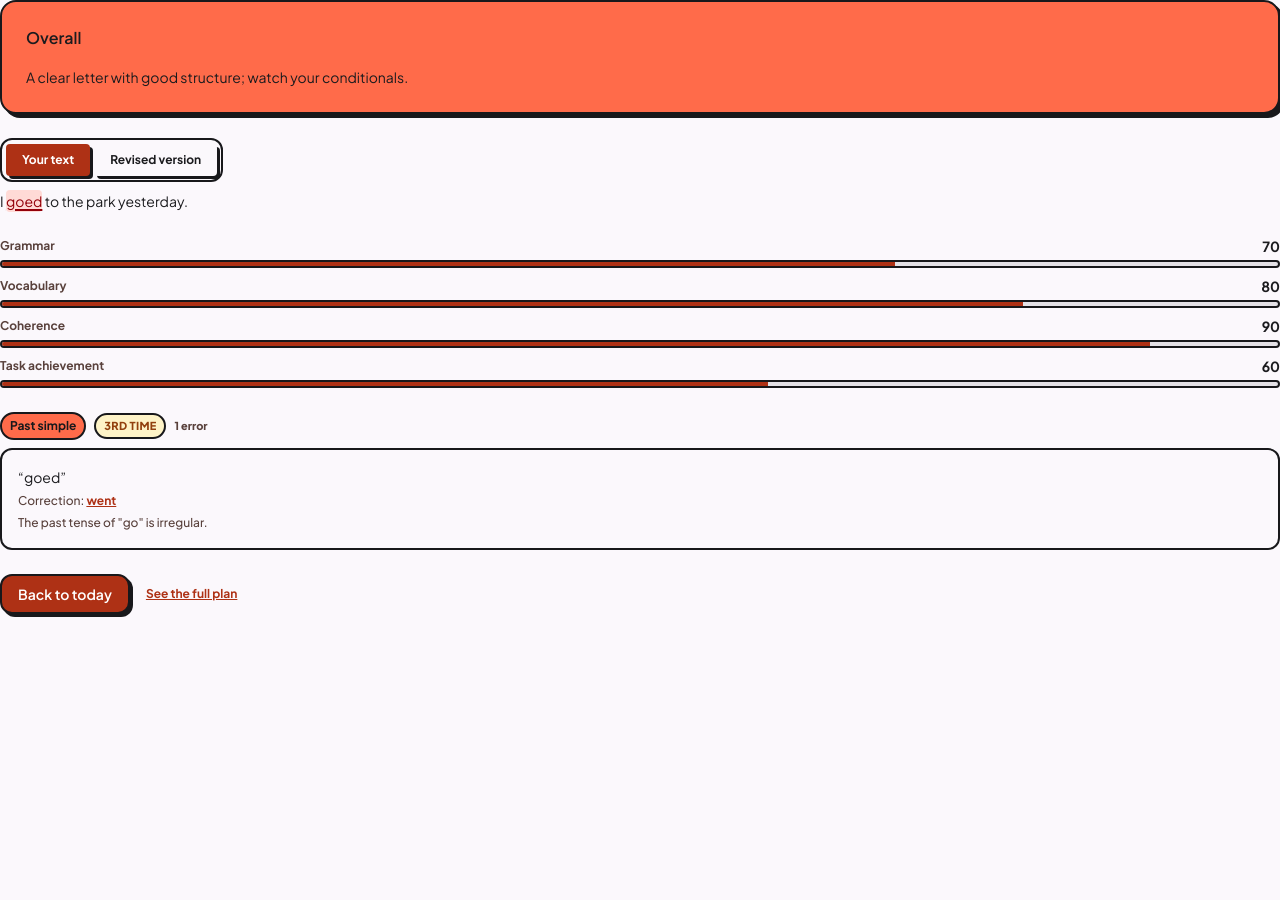
Test case: WritingResult › a_highlight_popover_closes_on_escape
Click the button with aria-label "goed — Past simple": (24, 201) [6, 190, 42, 212]
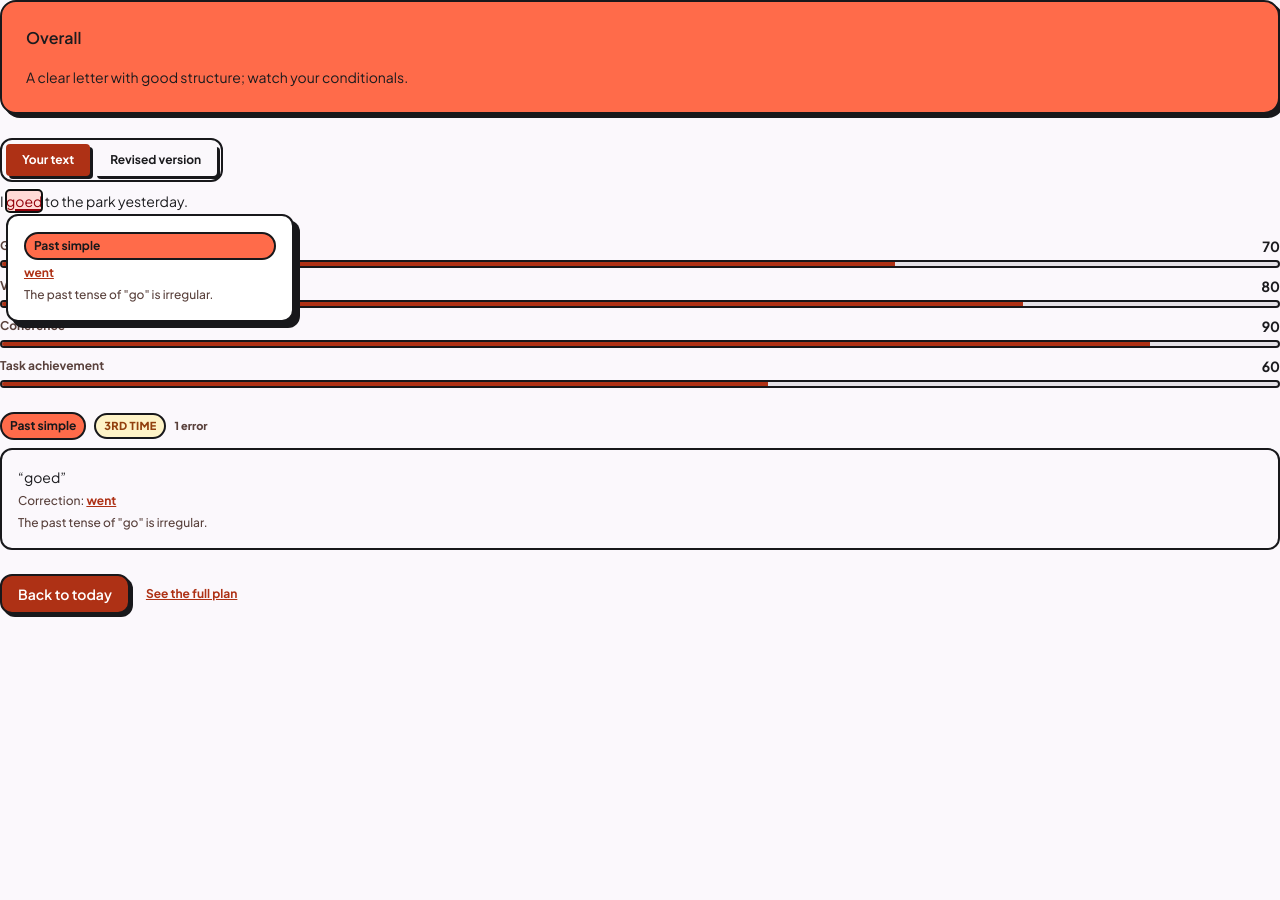
Expected: the dialog is shown, [6, 214, 294, 322]
Press Escape
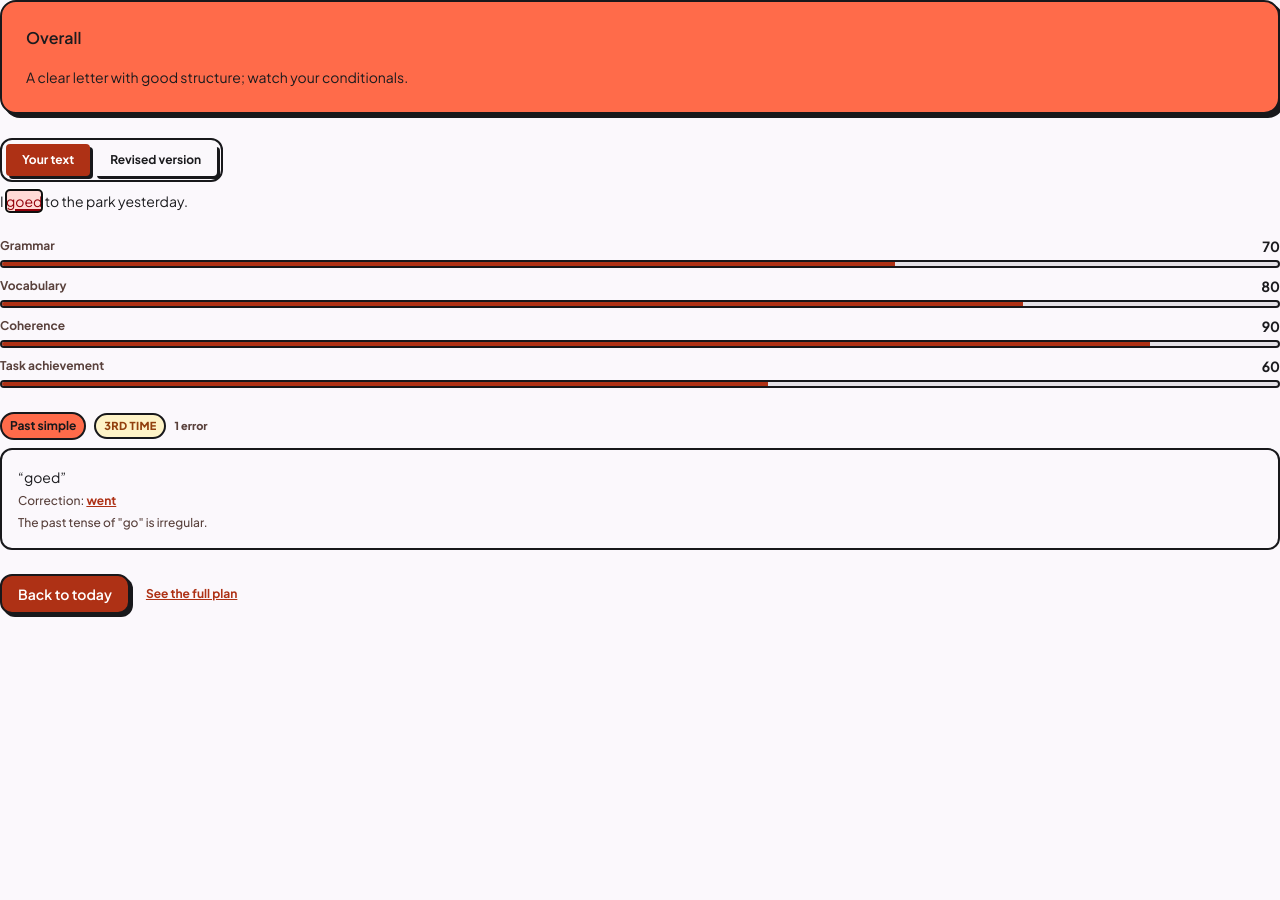
Expected: the dialog is gone
